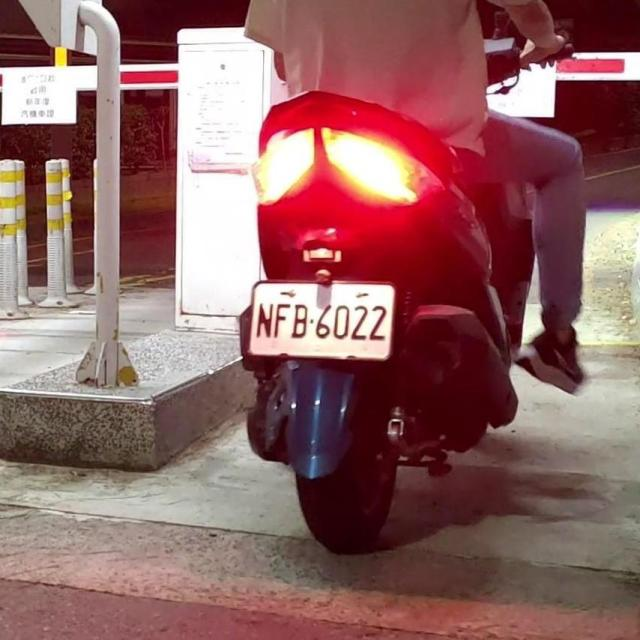W: (246, 276, 398, 360)
